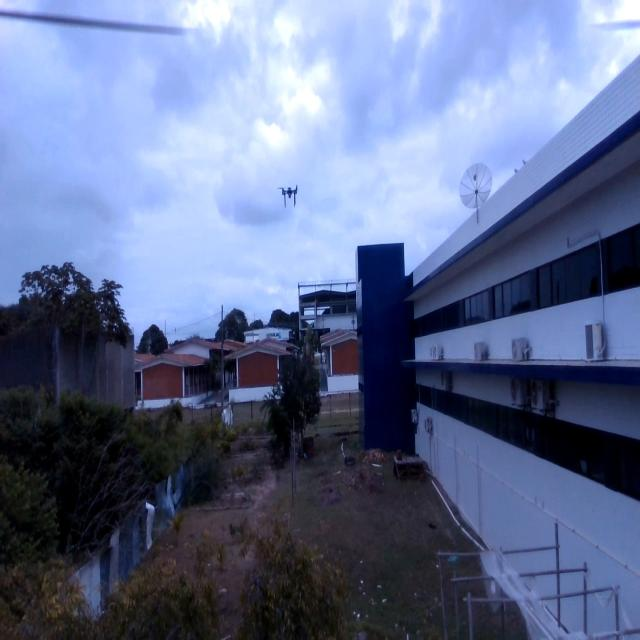-uav-: (273, 172, 306, 225)
